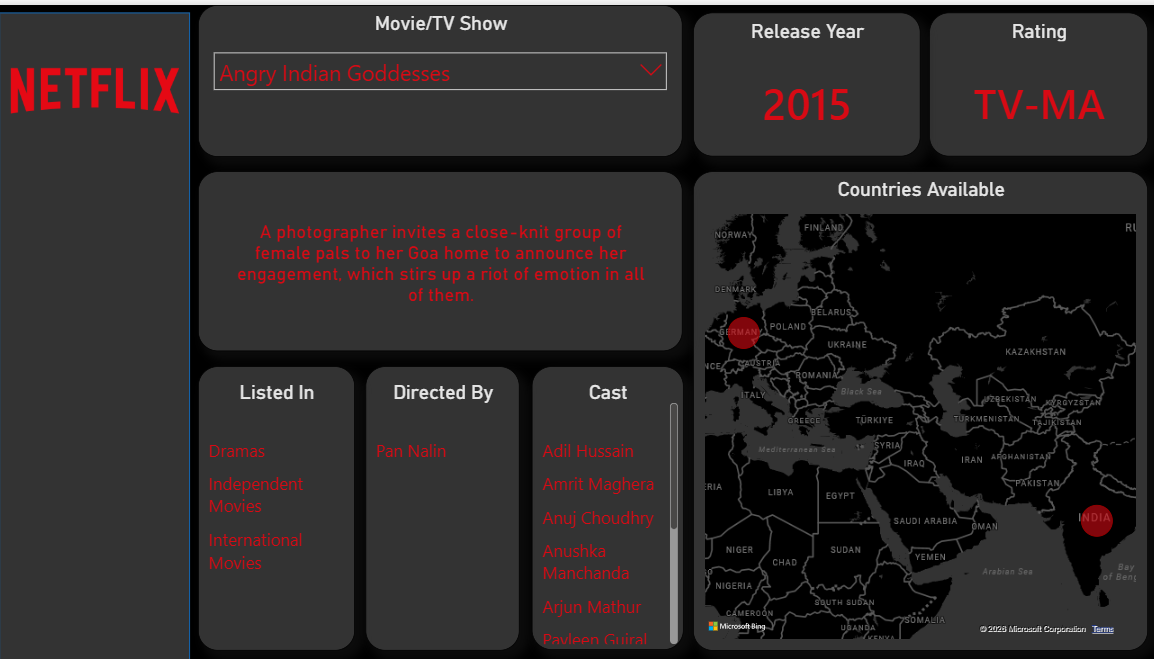

The page's visual inventory and layout, read from the dashboard file:
{"tool":"powerbi","page":{"name":"Single Title View","canvas":[1309,737],"ordinal":1},"visuals":[{"type":"shape","box":[12.4,8.3,212,720],"z":0},{"type":"tableEx","title":"Cast","fields":{"Values":["netflix_data netflix_cast.cast"]},"box":[603.5,401.9,168.5,314.9],"z":1000},{"type":"cardVisual","title":"Rating","fields":{"Data":["Min(netflix_data titles.rating)"]},"box":[1045.5,8.3,243.1,160.2],"z":2000},{"type":"map","title":"Countries Available","fields":{"Category":["netflix_data countries_released.country"],"Size":["CountNonNull(netflix_data countries_released.show_id)"]},"box":[783.1,185.1,505.5,533.1],"z":3000},{"type":"image","box":[4.1,0,229.9,184.5],"z":4000},{"type":"slicer","title":"Movie/TV Show","fields":{"Values":["netflix_data titles.title"]},"box":[233.4,0,538.6,168.5],"z":5000},{"type":"cardVisual","title":"Release Year","fields":{"Data":["Sum(netflix_data titles.release_year)"]},"box":[783.1,8.3,252.7,160.2],"z":6000},{"type":"tableEx","title":"Directed By","fields":{"Values":["netflix_data netflix_directors.director"]},"box":[419.9,401.9,171.3,316.3],"z":7000},{"type":"tableEx","title":"Listed In","fields":{"Values":["netflix_data netflix_listed_in.category"]},"box":[233.4,401.9,174,316.3],"z":8000},{"type":"cardVisual","title":"Release Year","fields":{"Data":["Min(netflix_data description.description)"]},"box":[233.4,185.1,538.6,200.3],"z":9000}]}

Visuals, with their boxes in screenshot pixels (x1, y1, x2, y2), scaled from the page's 1309x737 canvas onto the 1154x659 screenshot:
shape: <region>11, 7, 198, 651</region>
"Cast" tableEx: <region>532, 359, 681, 641</region>
"Rating" cardVisual: <region>922, 7, 1136, 151</region>
"Countries Available" map: <region>690, 166, 1136, 642</region>
image: <region>4, 0, 206, 165</region>
"Movie/TV Show" slicer: <region>206, 0, 681, 151</region>
"Release Year" cardVisual: <region>690, 7, 913, 151</region>
"Directed By" tableEx: <region>370, 359, 521, 642</region>
"Listed In" tableEx: <region>206, 359, 359, 642</region>
"Release Year" cardVisual: <region>206, 166, 681, 345</region>
